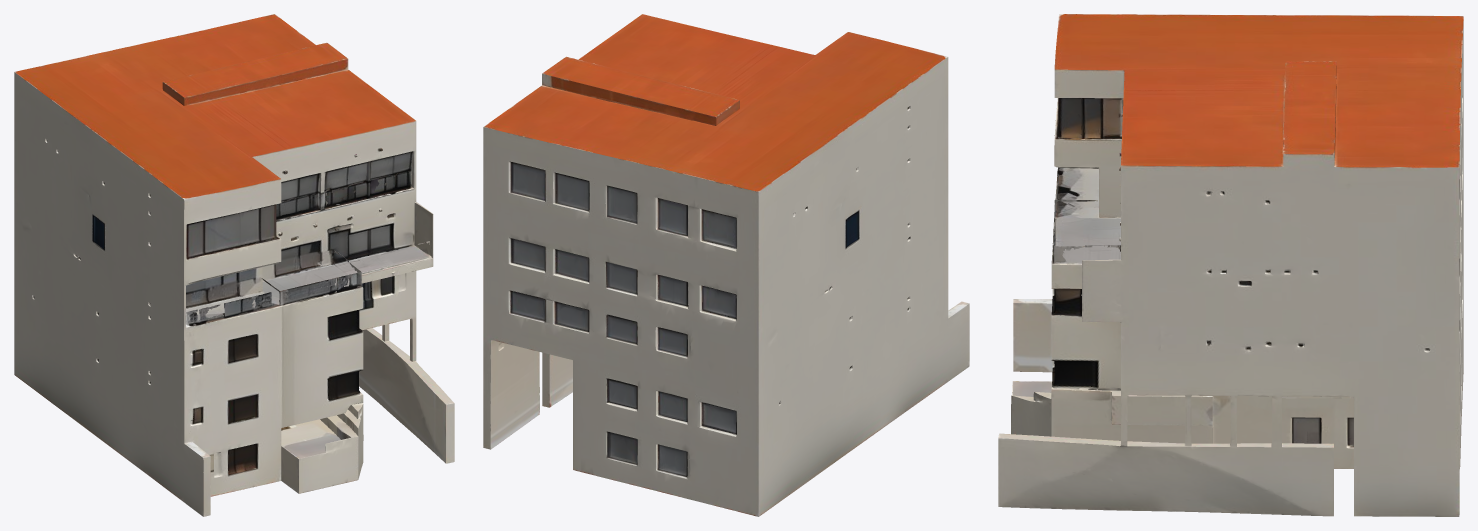
File: res_multistory.glb
The picture shows the model from 3 angles, left to right: view 1: azimuth 30°, elevation 25°; view 2: azimuth 150°, elevation 25°; view 3: azimuth 270°, elevation 25°; orthographic projection. The views are drawn at different scales.
Visible parts, largest first — view 1: Object_3, Object_4, Object_2; view 2: Object_3, Object_4, Object_2; view 3: Object_3, Object_4, Object_2.
Part boxes in pixels (left/top/right/bottom): Object_3: left=14, top=14, right=454, bottom=516; Object_4: left=29, top=28, right=432, bottom=516; Object_2: left=17, top=34, right=432, bottom=490; Object_3: left=483, top=14, right=969, bottom=516; Object_4: left=483, top=46, right=925, bottom=515; Object_2: left=487, top=46, right=965, bottom=493; Object_3: left=998, top=14, right=1463, bottom=516; Object_4: left=1013, top=17, right=1463, bottom=447; Object_2: left=1002, top=19, right=1463, bottom=511.
Bounding box in the file's own units: 22.79 × 25.74 × 30.
Materials: 1 (1 with a texture image).
